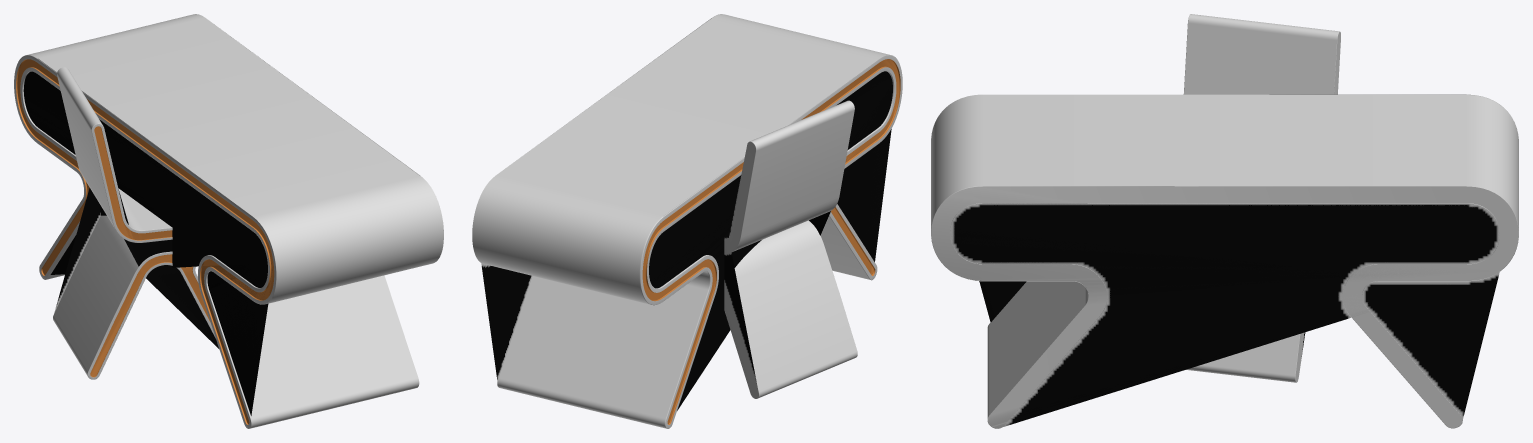
File: Omega Chair and Desk - David Munscher.fbx
The picture shows the model from 3 angles, left to right: view 1: azimuth 30°, elevation 25°; view 2: azimuth 150°, elevation 25°; view 3: azimuth 270°, elevation 25°; orthographic projection. The views are drawn at different scales.
Visible parts, largest first — view 1: Omega_Table, Omega_Chair; view 2: Omega_Table, Omega_Chair; view 3: Omega_Table, Omega_Chair.
Boxes of the visible parts, left/top/right/bottom form: Omega_Table: left=14, top=14, right=443, bottom=428; Omega_Chair: left=53, top=67, right=218, bottom=379; Omega_Table: left=472, top=14, right=902, bottom=428; Omega_Chair: left=724, top=100, right=857, bottom=398; Omega_Table: left=931, top=94, right=1518, bottom=428; Omega_Chair: left=1183, top=14, right=1340, bottom=382.
Bounding box in the file's own units: 100 × 103 × 190.
2 materials, 2 textured.
